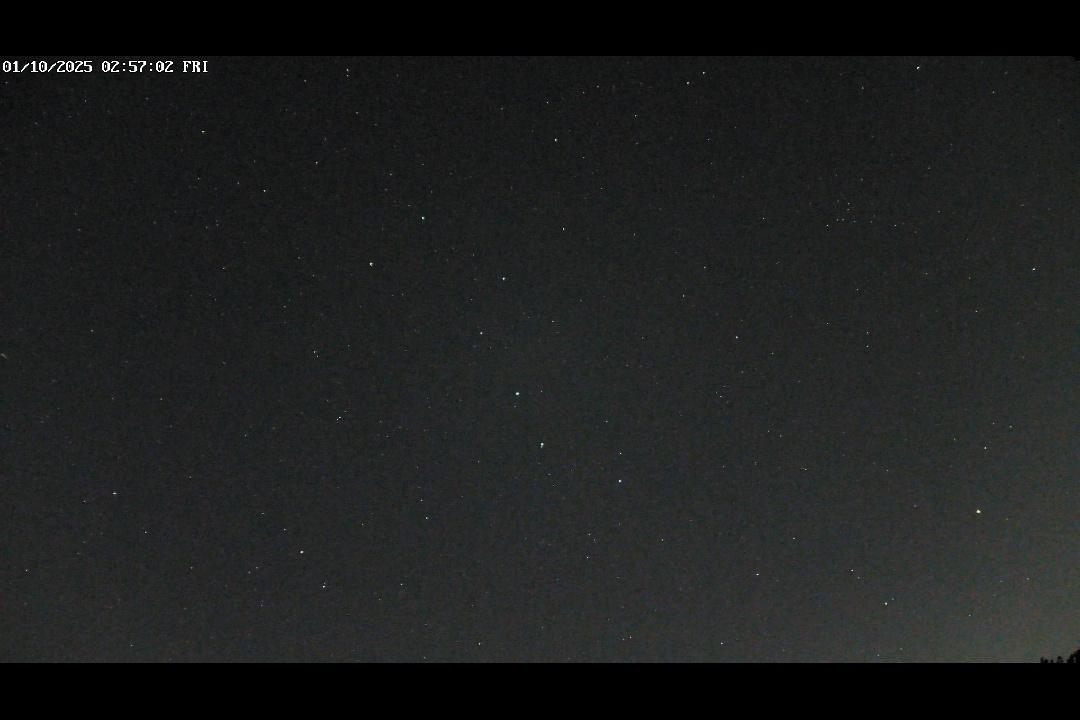meteorite: (0, 348, 16, 368)
